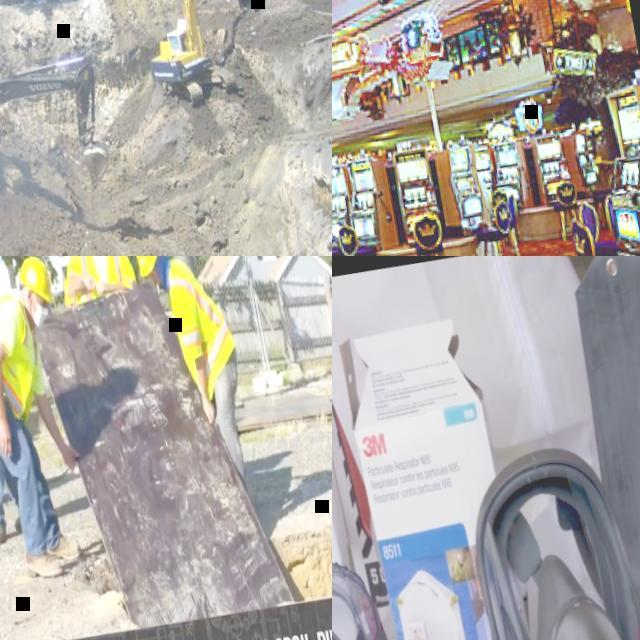helmet: (15, 256, 53, 304), (130, 256, 167, 276)
vest: (163, 256, 243, 397), (0, 288, 48, 428), (72, 256, 135, 297)
